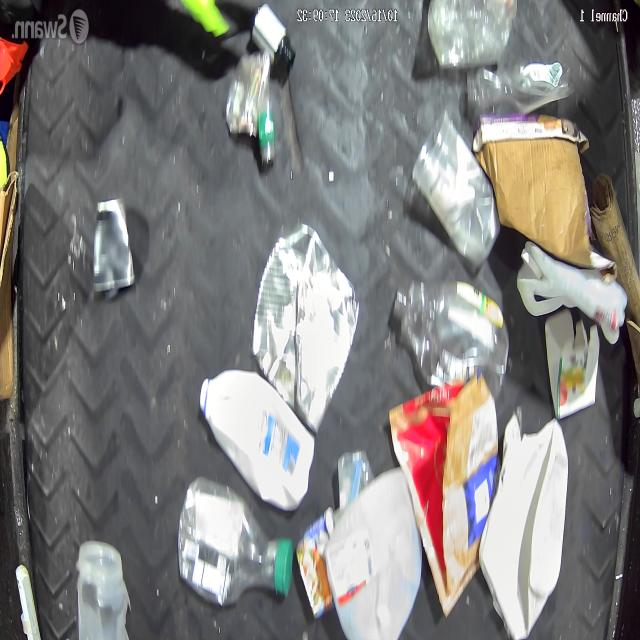can: (250, 225, 359, 432), (95, 189, 134, 291)
milk_jug: (199, 366, 315, 501), (334, 467, 422, 636)
plastic_bottle: (180, 484, 292, 594), (393, 282, 507, 376)
